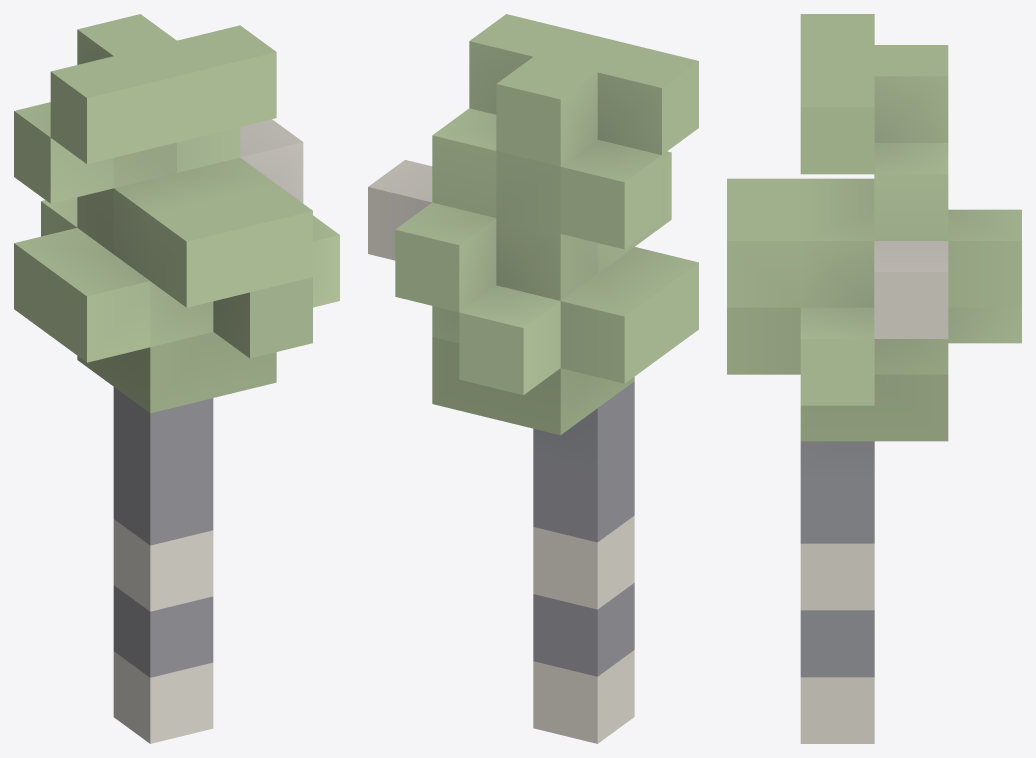
File: decor_tree_d.glb
3 renders of one model, left to right at view 1: azimuth 30°, elevation 25°; view 2: azimuth 150°, elevation 25°; view 3: azimuth 270°, elevation 25°, orthographic.
Parts seen in each view (by area): view 1: decor_tree_d; view 2: decor_tree_d; view 3: decor_tree_d.
Boxes of the visible parts, <box> form: decor_tree_d: <box>14,14,339,743</box>; decor_tree_d: <box>368,14,698,743</box>; decor_tree_d: <box>727,14,1021,743</box>.
Size of the model in its own units: 0.5 by 1.25 by 0.5.
